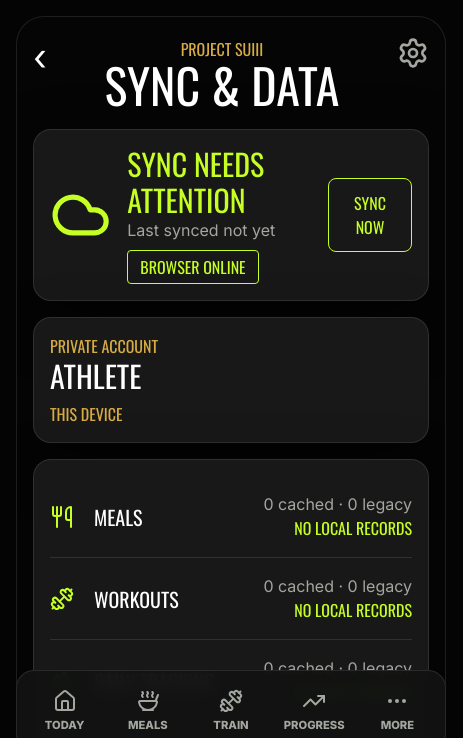
Test: Phase 4 auth and sync screens › does not report success when pull fails after push
Click the button "Sync Now". click: (370, 215)
box: [328,178,412,252]
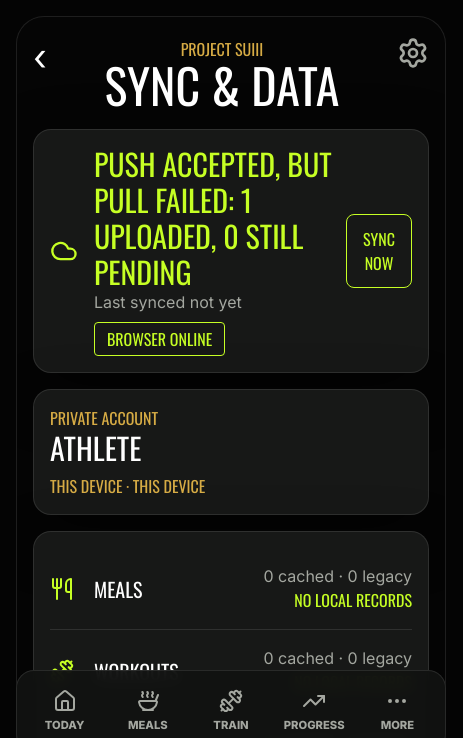
Expected: the heading "Push accepted, but pull failed: 1 uploaded, 0 still pending" is shown, [94,146,346,290]
